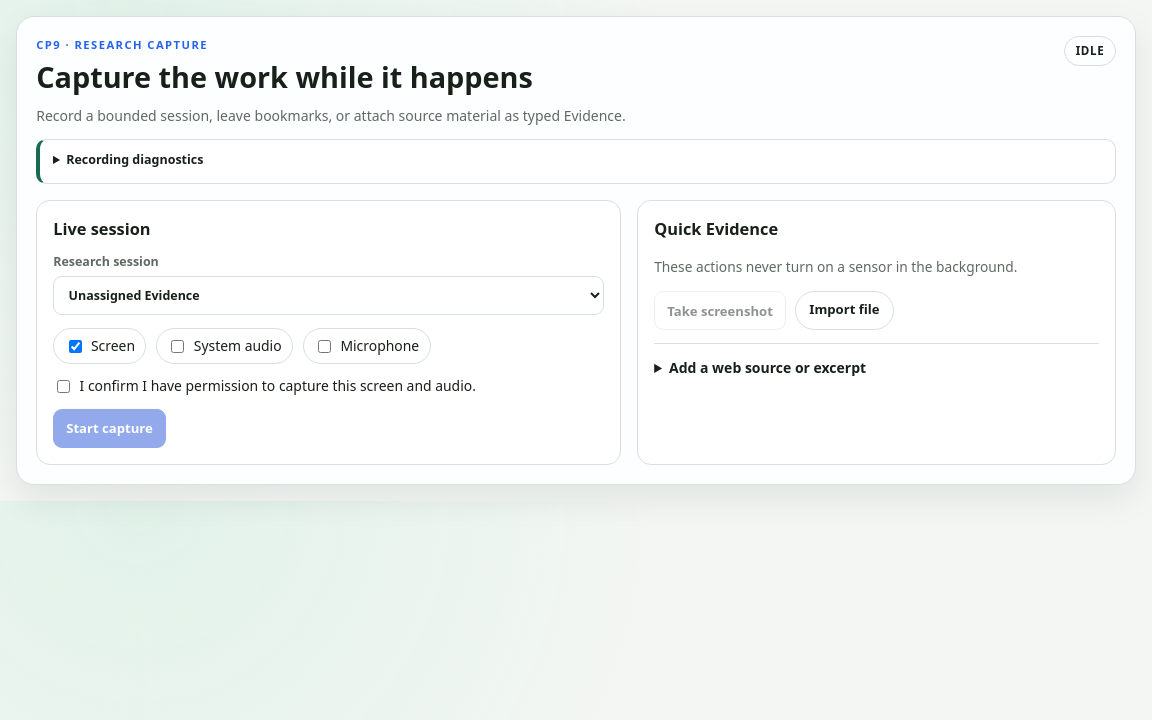
Scenario: CP9 capture consent boundary › blocks screen plus audio before requesting devices when native mixer components are absent
Click the checkbox labelled "Microphone".
click(324, 346)  # box x1=318 y1=340 x2=331 y2=352
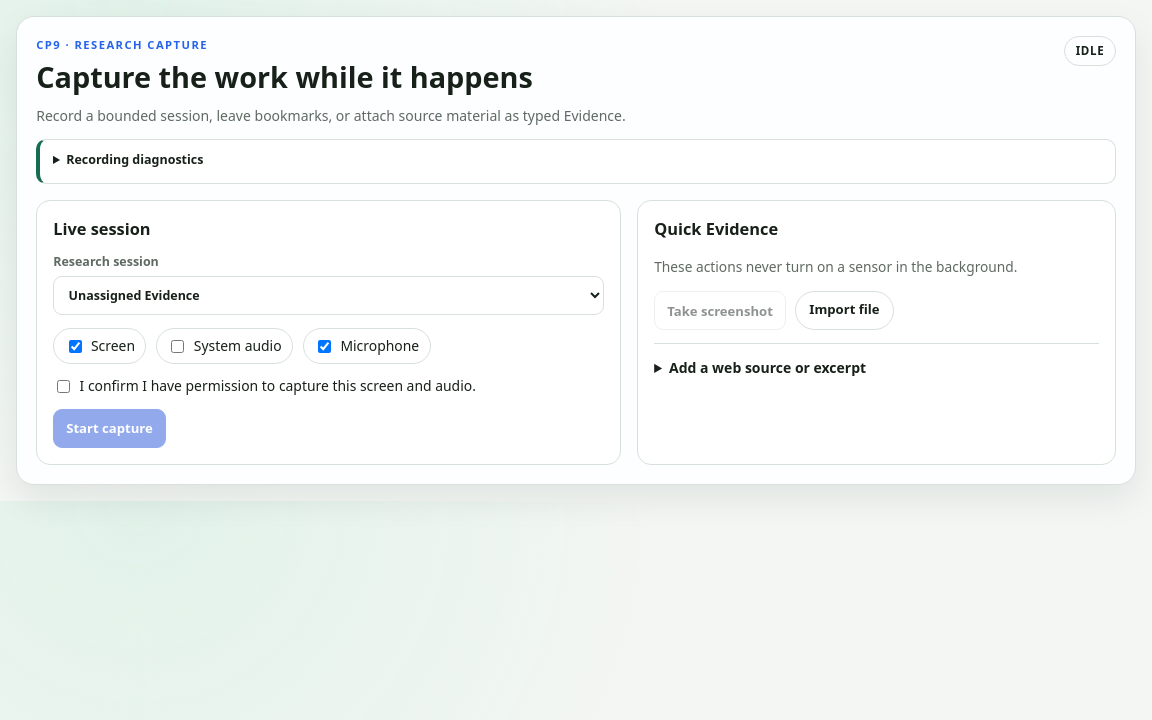
Click the checkbox labelled "I confirm I have permission to capture this screen and audio.".
click(64, 386)  # box x1=57 y1=380 x2=70 y2=393
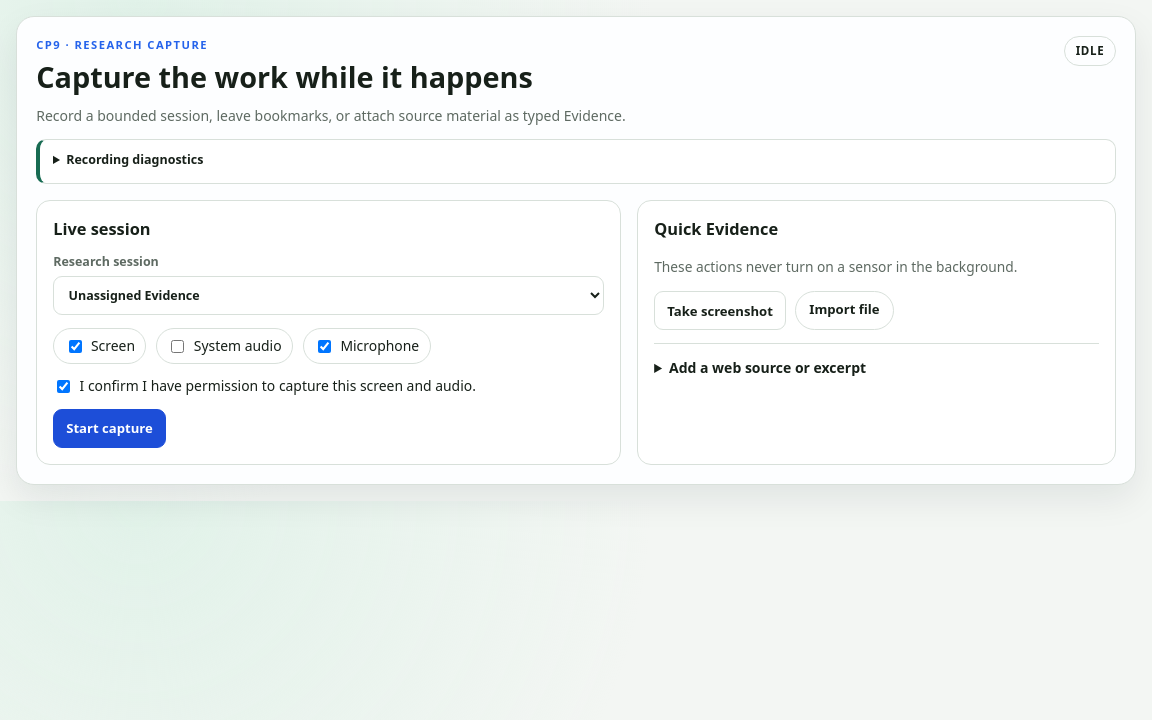
Click the button "Start capture".
click(110, 428)  # box x1=53 y1=409 x2=166 y2=448
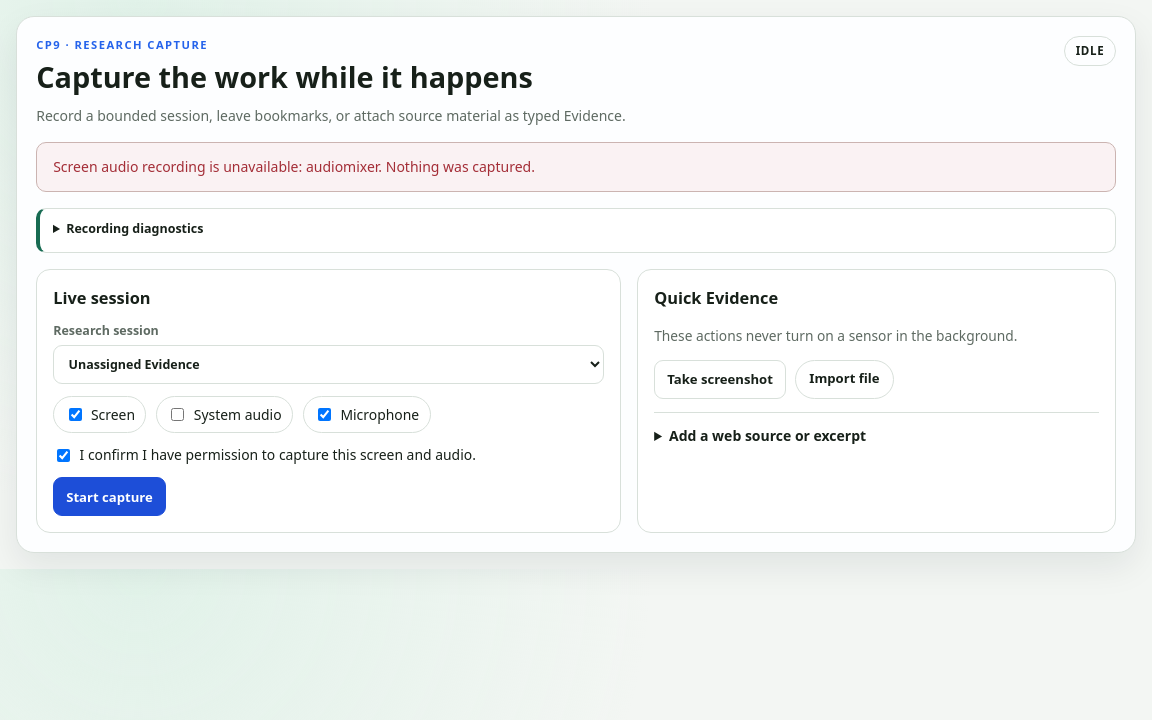
expect the text "Screen audio recording is unavailable: audiomixer. Nothing was captured." is shown: met, box x1=36 y1=142 x2=1116 y2=192
